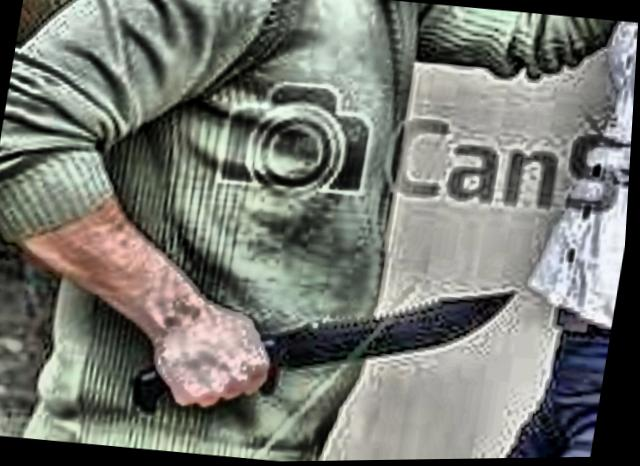knife: (190, 248, 524, 439)
